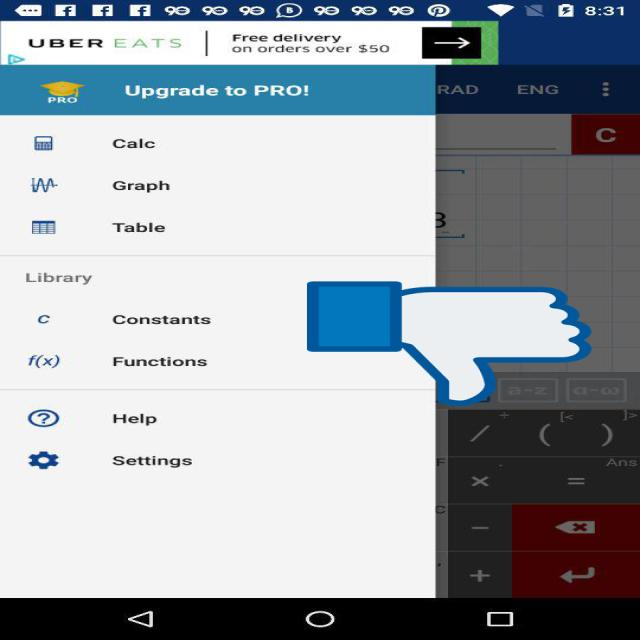obstruction: (307, 278, 591, 408)
